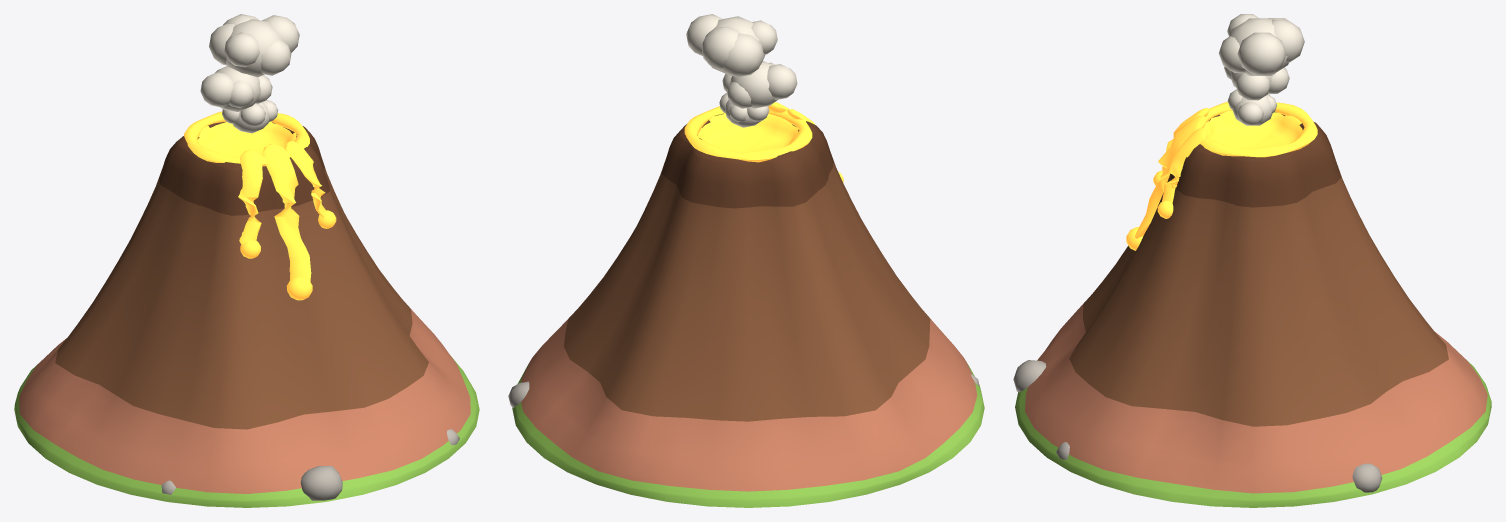
Rendered from prop_volcano.glb.
The picture shows the model from 3 angles, left to right: view 1: azimuth 30°, elevation 25°; view 2: azimuth 150°, elevation 25°; view 3: azimuth 270°, elevation 25°; orthographic projection. The views are drawn at different scales.
Visible parts, largest first — view 1: prop_volcano, smoke; view 2: prop_volcano, smoke; view 3: prop_volcano, smoke.
Boxes of the visible parts, x1,y1,x2,y2 form: prop_volcano: (14,111,479,507); smoke: (200,14,299,133); prop_volcano: (508,102,984,507); smoke: (686,14,797,127); prop_volcano: (1013,101,1491,507); smoke: (1219,14,1304,125).
Size of the model in its own units: 13.77 by 12.56 by 13.81.
